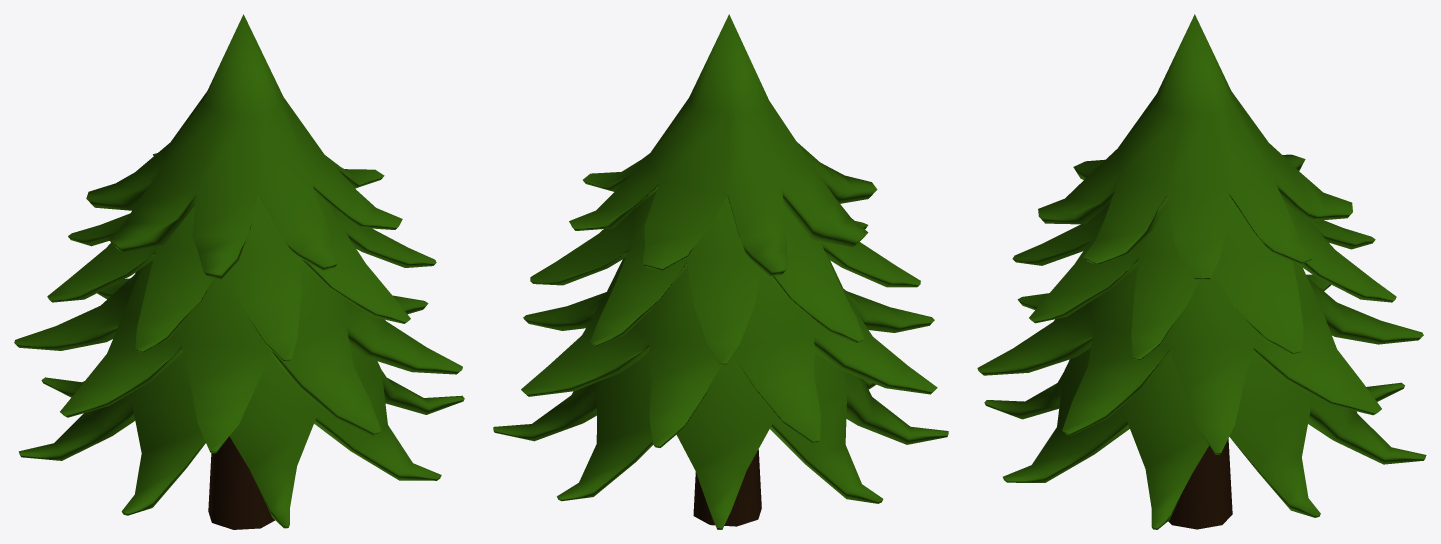
File: Fir01.fbx
3 views of the same model, side by side, from view 1: azimuth 30°, elevation 25°; view 2: azimuth 150°, elevation 25°; view 3: azimuth 270°, elevation 25° (orthographic).
Parts seen in each view (by area): view 1: mFir; view 2: mFir; view 3: mFir.
Boxes of the visible parts, bbox=[...] form: mFir: bbox=[14, 14, 464, 529]; mFir: bbox=[493, 14, 948, 529]; mFir: bbox=[977, 14, 1426, 529].
Size of the model in its own units: 797 by 964 by 785.
